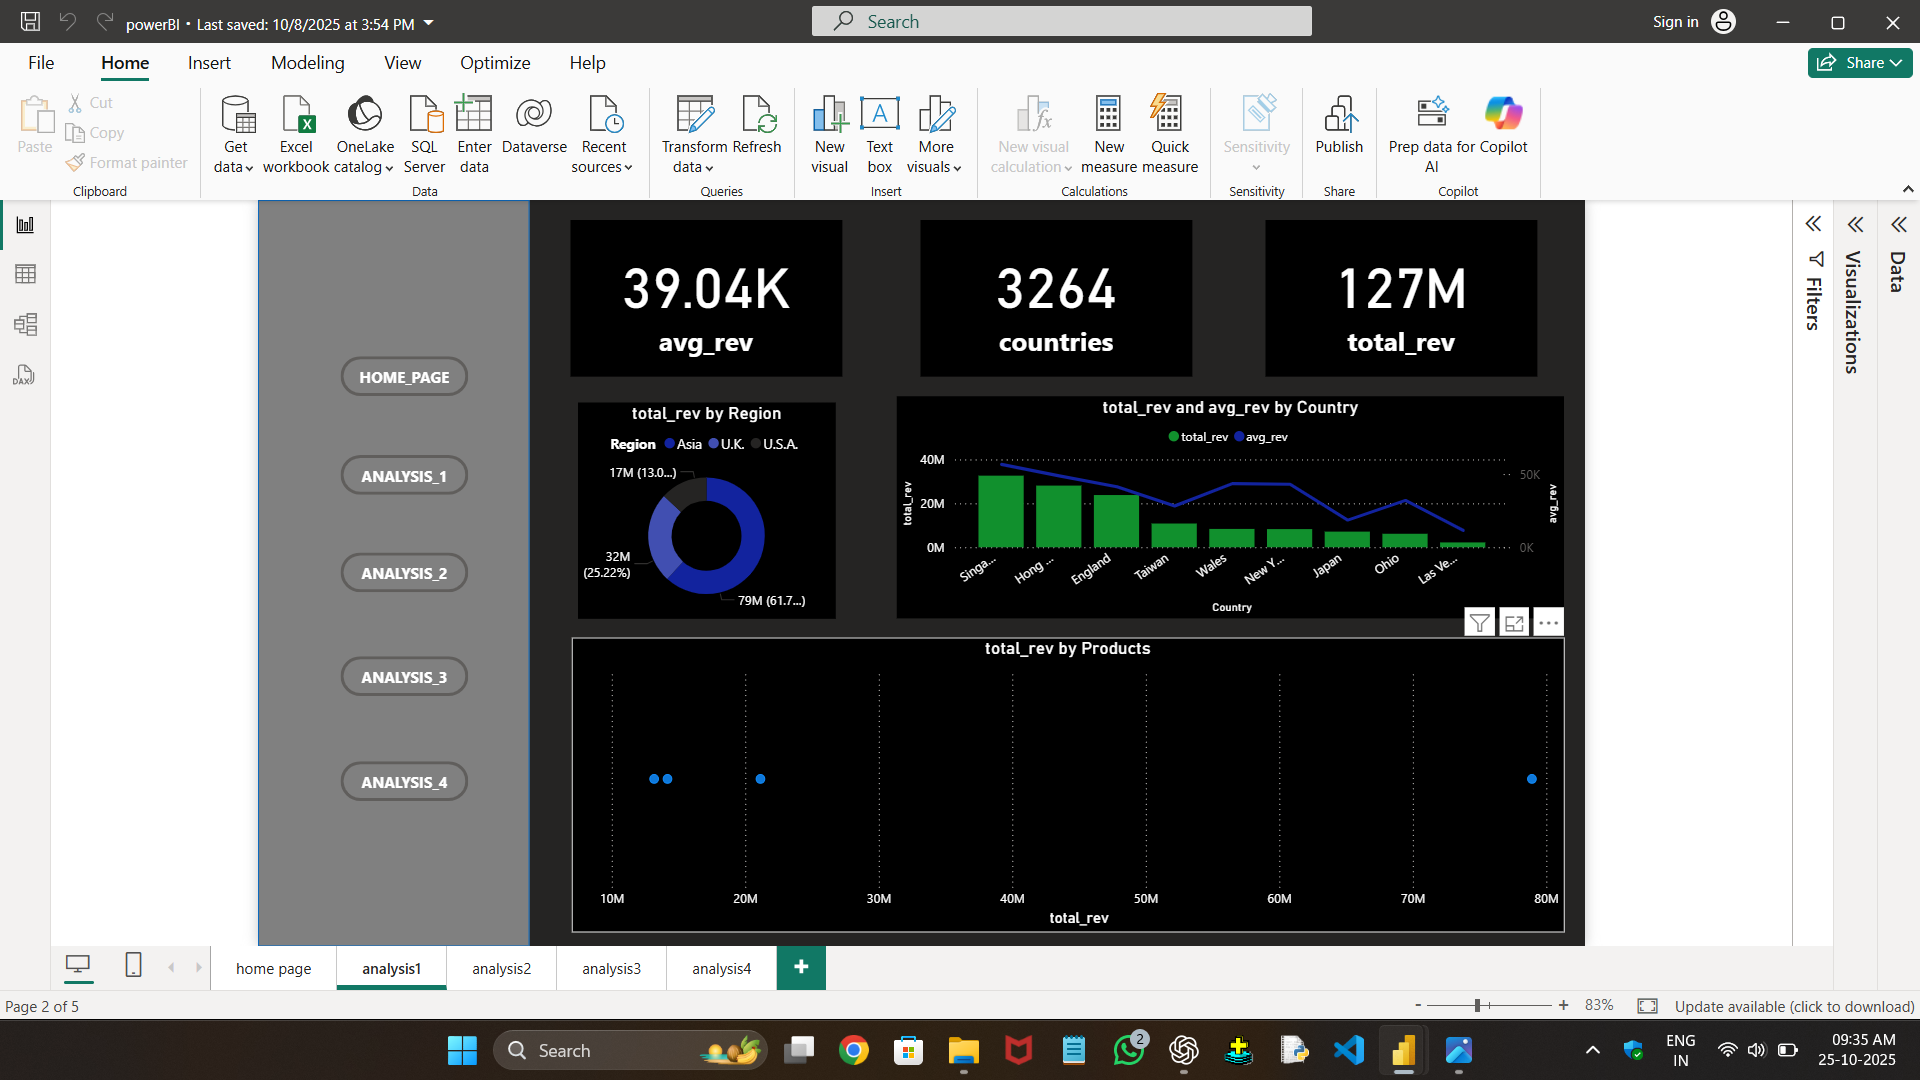

The dashboard page shown, as its layout file describes it:
{"tool":"powerbi","page":{"name":"analysis1","canvas":[1280,720],"ordinal":1},"visuals":[{"type":"shape","box":[0,0,262.1,720.4],"z":0},{"type":"actionButton","box":[79.6,150.9,123.5,38.4],"z":1000},{"type":"actionButton","box":[79.6,245.6,123.5,38.4],"z":2000},{"type":"actionButton","box":[79.6,340.3,123.5,38.4],"z":3000},{"type":"actionButton","box":[79.6,440.5,123.5,38.4],"z":4000},{"type":"actionButton","box":[79.6,542,123.5,38.4],"z":5000},{"type":"card","fields":{"Values":["DataSet.avg_rev"]},"box":[301.9,19.2,262.1,150.9],"z":6000},{"type":"card","fields":{"Values":["DataSet.countries"]},"box":[639.5,19.2,262.1,150.9],"z":7000},{"type":"card","fields":{"Values":["DataSet.total_rev"]},"box":[972.9,19.2,262.1,150.9],"z":8000},{"type":"donutChart","fields":{"Y":["DataSet.total_rev"],"Category":["DataSet.Region"]},"box":[308.8,195.4,248.5,208.7],"z":9000},{"type":"lineStackedColumnComboChart","fields":{"Category":["DataSet.Country"],"Y2":["DataSet.avg_rev"],"Y":["DataSet.total_rev"]},"box":[616.5,189.4,644.2,214.7],"z":10000},{"type":"scatterChart","fields":{"Category":["DataSet.Products"],"X":["DataSet.total_rev"]},"box":[303.3,422.6,957.8,284],"z":11000}]}

Visuals, with their boxes on the page's 1280x720 design canvas (x1, y1, x2, y2). These are canvas units, not pixel positions in the 1920x1080 screenshot, which may show the page scaled, cropped or inside an application window:
shape: bbox=(0, 0, 262, 720)
actionButton: bbox=(80, 151, 203, 189)
actionButton: bbox=(80, 246, 203, 284)
actionButton: bbox=(80, 340, 203, 379)
actionButton: bbox=(80, 440, 203, 479)
actionButton: bbox=(80, 542, 203, 580)
card - DataSet.avg_rev: bbox=(302, 19, 564, 170)
card - DataSet.countries: bbox=(640, 19, 902, 170)
card - DataSet.total_rev: bbox=(973, 19, 1235, 170)
donutChart - DataSet.total_rev x DataSet.Region: bbox=(309, 195, 557, 404)
lineStackedColumnComboChart - DataSet.Country x DataSet.avg_rev: bbox=(616, 189, 1261, 404)
scatterChart - DataSet.Products x DataSet.total_rev: bbox=(303, 423, 1261, 707)
